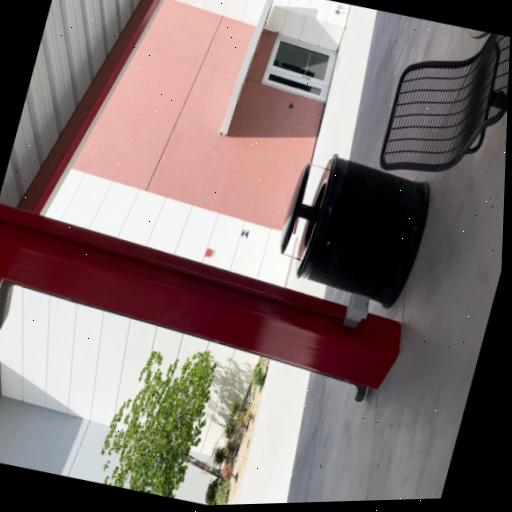target9: (241, 228, 250, 239)
